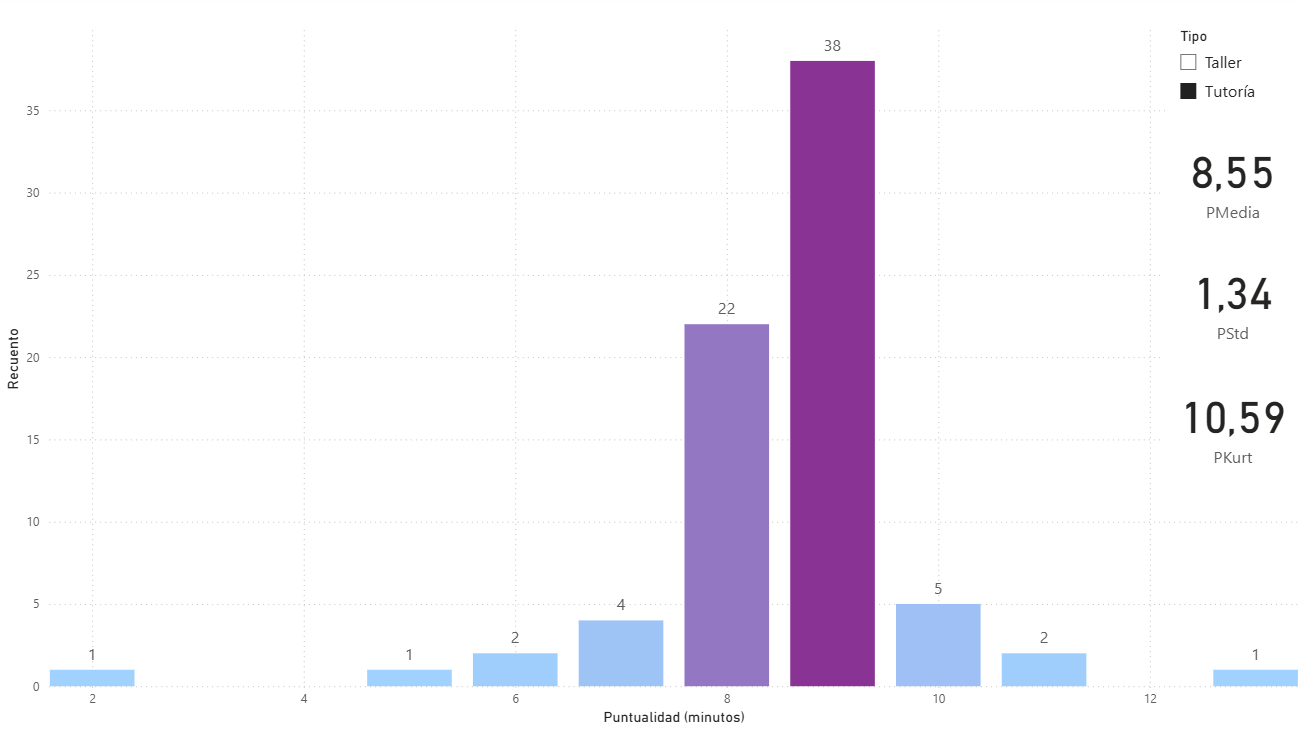

The page's visual inventory and layout, read from the dashboard file:
{"tool":"powerbi","page":{"name":"Puntualidad","canvas":[1280,720],"ordinal":3},"visuals":[{"type":"clusteredColumnChart","fields":{"Y":["CountNonNull(FullMeetingsInfoExtra - Jun -Aug (Clean).Puntualidad (minutos))"],"Category":["Meetings - Jun -Aug (Clean).Puntualidad (minutos) (ubicaciones)"]},"box":[0,19.6,1280,700.4],"z":0},{"type":"slicer","fields":{"Values":["Meetings - Jun -Aug (Clean).Tipo"]},"box":[1146.4,25.5,133.6,93.3],"z":1000},{"type":"card","fields":{"Values":["Meetings - Jun -Aug (Clean).PKurt"]},"box":[1142.5,359.5,137.5,118.9],"z":2000},{"type":"card","fields":{"Values":["Meetings - Jun -Aug (Clean).PStd"]},"box":[1142.5,237.7,137.5,118.9],"z":3000},{"type":"card","fields":{"Values":["Meetings - Jun -Aug (Clean).PMedia"]},"box":[1142.5,118.9,137.5,118.9],"z":4000}]}

Visuals, with their boxes in screenshot pixels (x1, y1, x2, y2), scaled from the page's 1280x720 canvas onto the 1300x730 screenshot:
clusteredColumnChart - CountNonNull(FullMeetingsInfoExtra - Jun -Aug (Clean).Puntualidad (minutos)) x Meetings - Jun -Aug (Clean).Puntualidad (minutos) (ubicaciones): select_region(0, 20, 1299, 729)
slicer - Meetings - Jun -Aug (Clean).Tipo: select_region(1164, 26, 1299, 120)
card - Meetings - Jun -Aug (Clean).PKurt: select_region(1160, 364, 1299, 485)
card - Meetings - Jun -Aug (Clean).PStd: select_region(1160, 241, 1299, 362)
card - Meetings - Jun -Aug (Clean).PMedia: select_region(1160, 121, 1299, 241)
